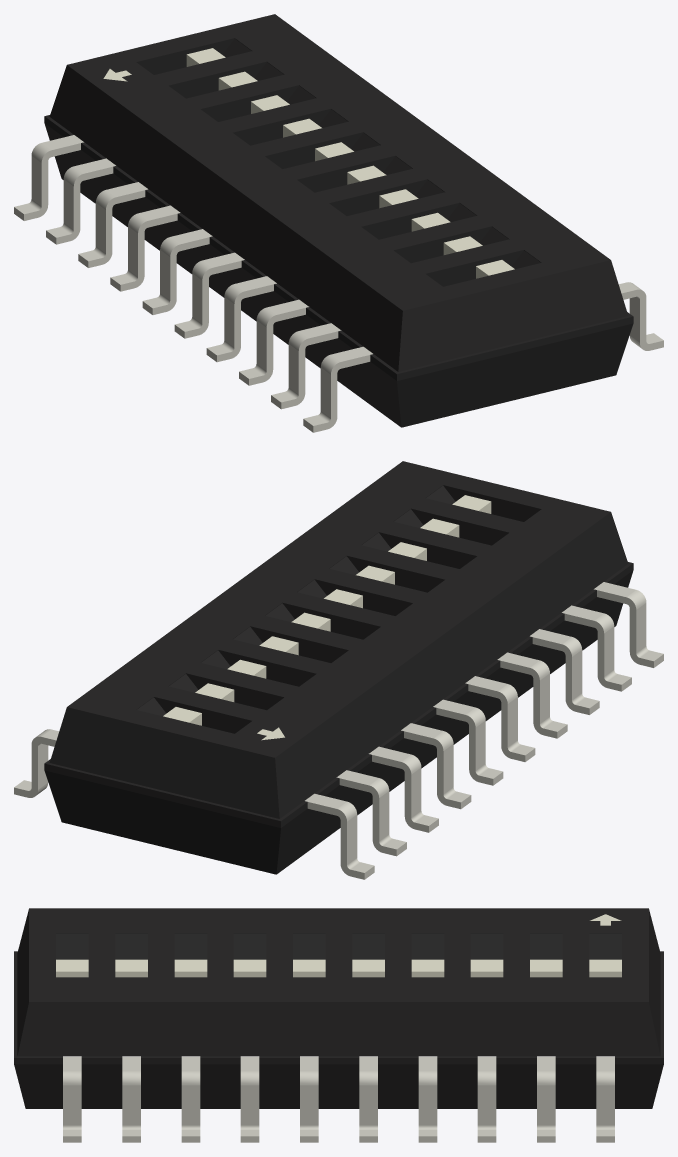
The model's file is kc-sw_dip_spstx10_slide_copal_chs-10b_w7.62mm_p1.27mm.glb.
The picture shows the model from 3 angles, top to bottom: view 1: azimuth 30°, elevation 25°; view 2: azimuth 150°, elevation 25°; view 3: azimuth 270°, elevation 25°; orthographic projection. The views are drawn at different scales.
Parts seen in each view (by area): view 1: 0_0_0_0, 0.6666666666666666_0.6666666666666666_0.5833333333333334_0.8, 0.75_0.75_0.6666666666666666_0; view 2: 0_0_0_0, 0.6666666666666666_0.6666666666666666_0.5833333333333334_0.8, 0.75_0.75_0.6666666666666666_0; view 3: 0_0_0_0, 0.6666666666666666_0.6666666666666666_0.5833333333333334_0.8, 0.75_0.75_0.6666666666666666_0.
Part boxes in pixels (<box>): 0_0_0_0: <box>44,14,633,427</box>; 0.6666666666666666_0.6666666666666666_0.5833333333333334_0.8: <box>14,135,663,432</box>; 0.75_0.75_0.6666666666666666_0: <box>103,48,514,278</box>; 0_0_0_0: <box>44,461,633,874</box>; 0.6666666666666666_0.6666666666666666_0.5833333333333334_0.8: <box>14,582,663,879</box>; 0.75_0.75_0.6666666666666666_0: <box>163,495,491,740</box>; 0_0_0_0: <box>14,908,663,1108</box>; 0.6666666666666666_0.6666666666666666_0.5833333333333334_0.8: <box>63,1056,614,1142</box>; 0.75_0.75_0.6666666666666666_0: <box>56,914,621,977</box>.
Bounding box in the file's own units: 0.8 × 0.2575 × 1.39.
